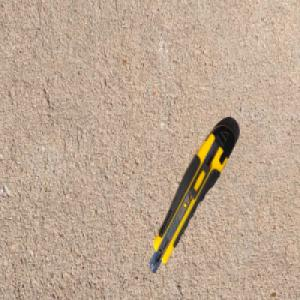Cutter: (148, 121, 237, 275)
